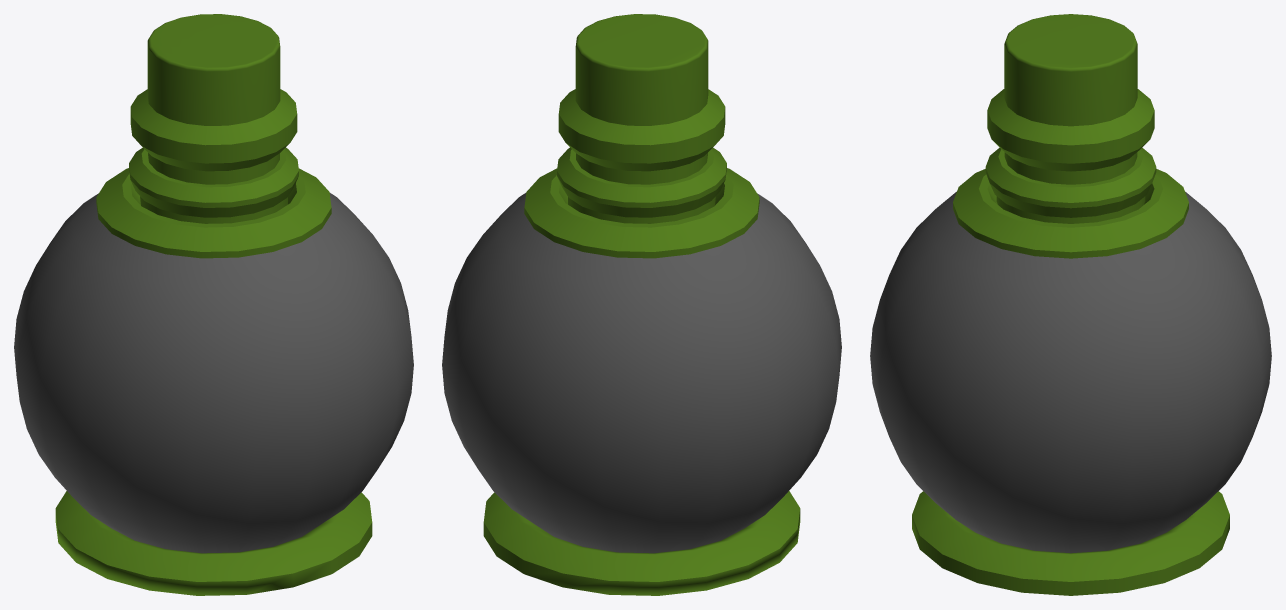
File: Pocion 4.fbx
3 views of the same model, side by side, from view 1: azimuth 30°, elevation 25°; view 2: azimuth 150°, elevation 25°; view 3: azimuth 270°, elevation 25° (orthographic).
Visible parts, largest first — view 1: pocion04; view 2: pocion04; view 3: pocion04.
Boxes of the visible parts, x1,y1,x2,y2 form: pocion04: (14,14,413,595); pocion04: (442,14,841,595); pocion04: (870,14,1271,595).
Bounding box in the file's own units: 2 × 2.68 × 2.
